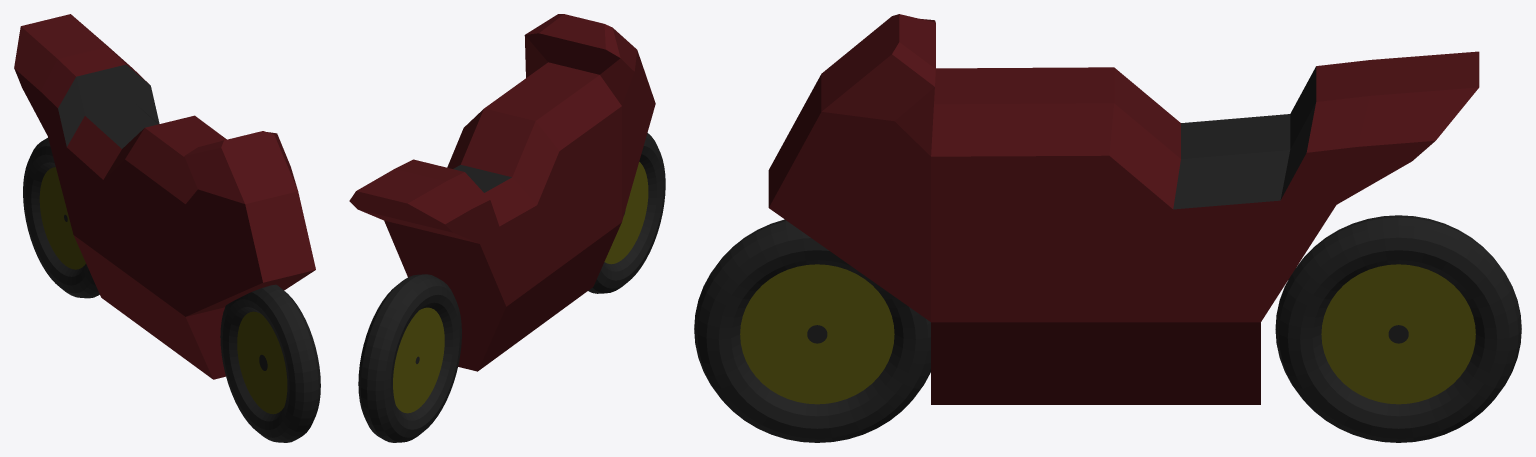
File: bike.fbx
The picture shows the model from 3 angles, left to right: view 1: azimuth 30°, elevation 25°; view 2: azimuth 150°, elevation 25°; view 3: azimuth 270°, elevation 25°; orthographic projection. The views are drawn at different scales.
Visible parts, largest first — view 1: bike; view 2: bike; view 3: bike.
Boxes of the visible parts, <box> form: bike: <box>14,14,320,442</box>; bike: <box>349,14,665,442</box>; bike: <box>694,14,1521,442</box>.
Bounding box in the file's own units: 3.04 × 8.77 × 15.91.
